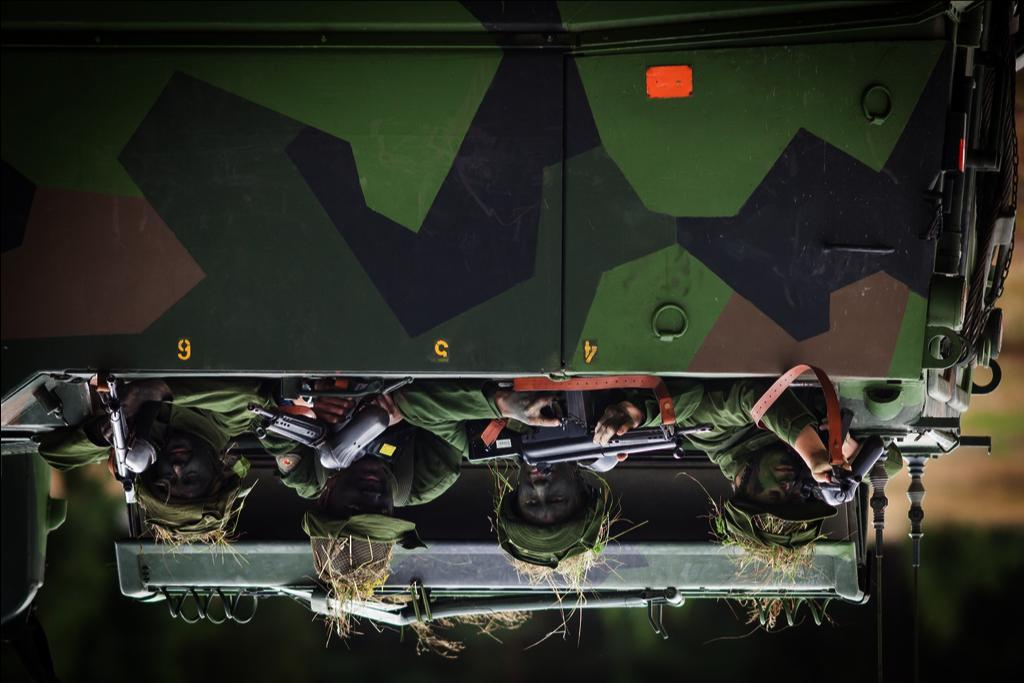gun: (466, 388, 713, 475), (246, 403, 402, 469), (101, 375, 145, 503), (793, 432, 848, 500)
